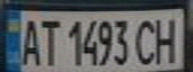1: (63, 16, 84, 66)
3: (112, 16, 133, 66)
4: (78, 16, 100, 66)
9: (96, 16, 115, 66)
A: (15, 15, 42, 67)
C: (133, 15, 160, 66)
H: (151, 14, 184, 65)
T: (36, 15, 60, 66)
